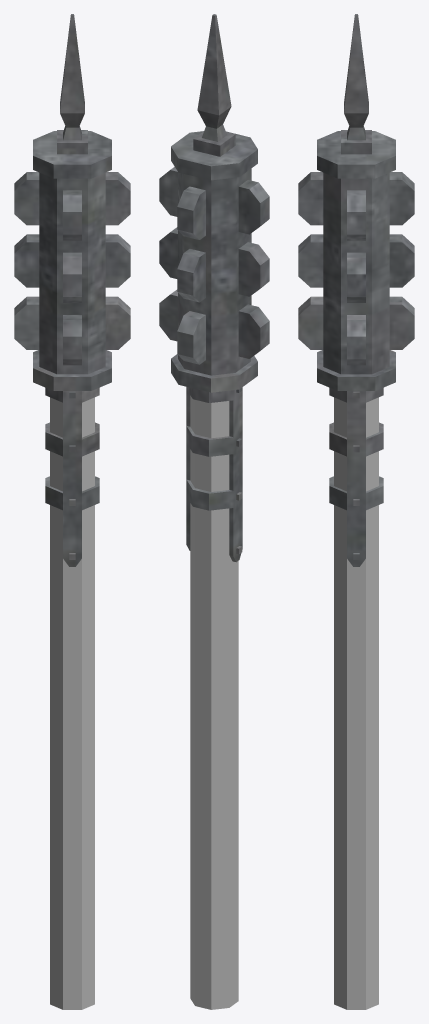
Rendered from mesh_club_blunt.fbx.
3 views of the same model, side by side, from view 1: azimuth 90°, elevation 25°; view 2: azimuth 150°, elevation 25°; view 3: azimuth 270°, elevation 25° (orthographic).
Parts seen in each view (by area): view 1: blunt_club1; view 2: blunt_club1; view 3: blunt_club1.
Part boxes in pixels (<box>): blunt_club1: <box>14,14,130,1009</box>; blunt_club1: <box>159,14,269,1009</box>; blunt_club1: <box>298,14,414,1009</box>.
Bounding box in the file's own units: 37.31 × 348 × 37.31.
